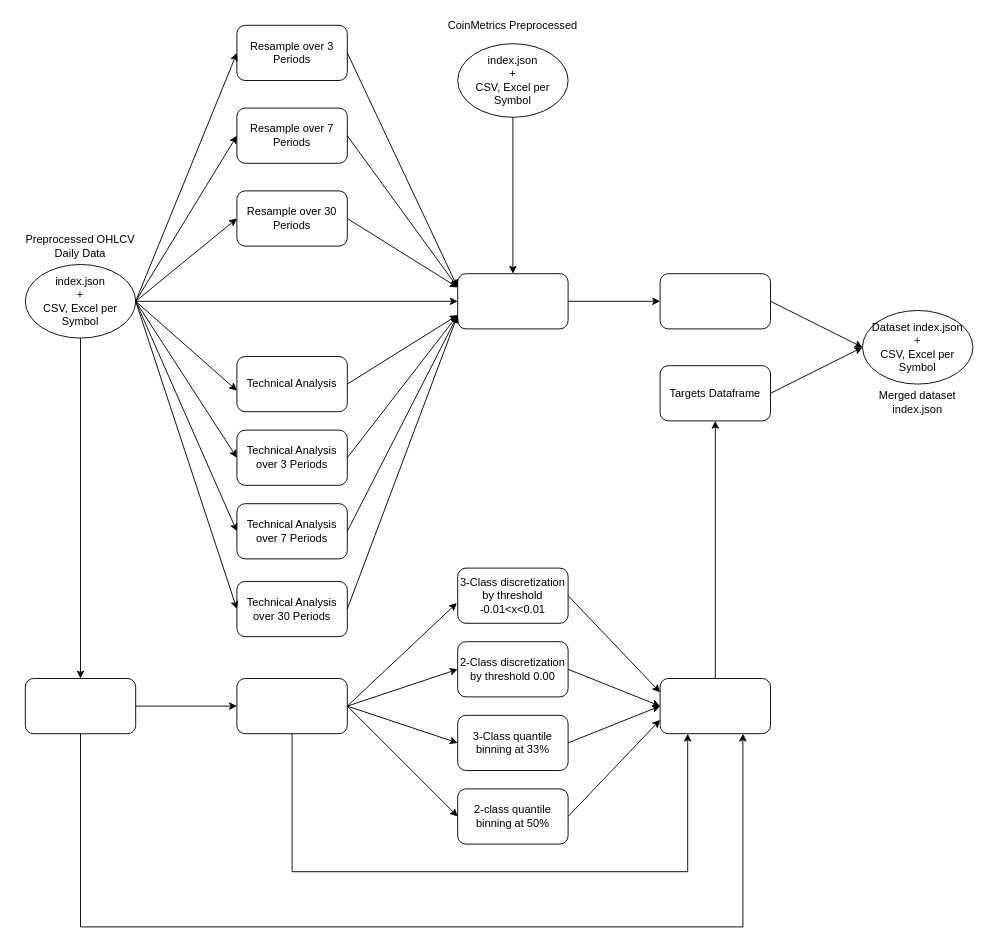
Image size: 989x950. Some labels were removed from this diagram. Each missing label, with the centre of its shape:
Concatenate by Index: (x=714, y=706)
Inner join over 'Date' attribute (Index): (x=512, y=301)
Percent Change, Roll backwards by 1 Period: (x=291, y=706)
Select Close: (x=80, y=706)
Symbol Features Dataframe: (x=714, y=301)
